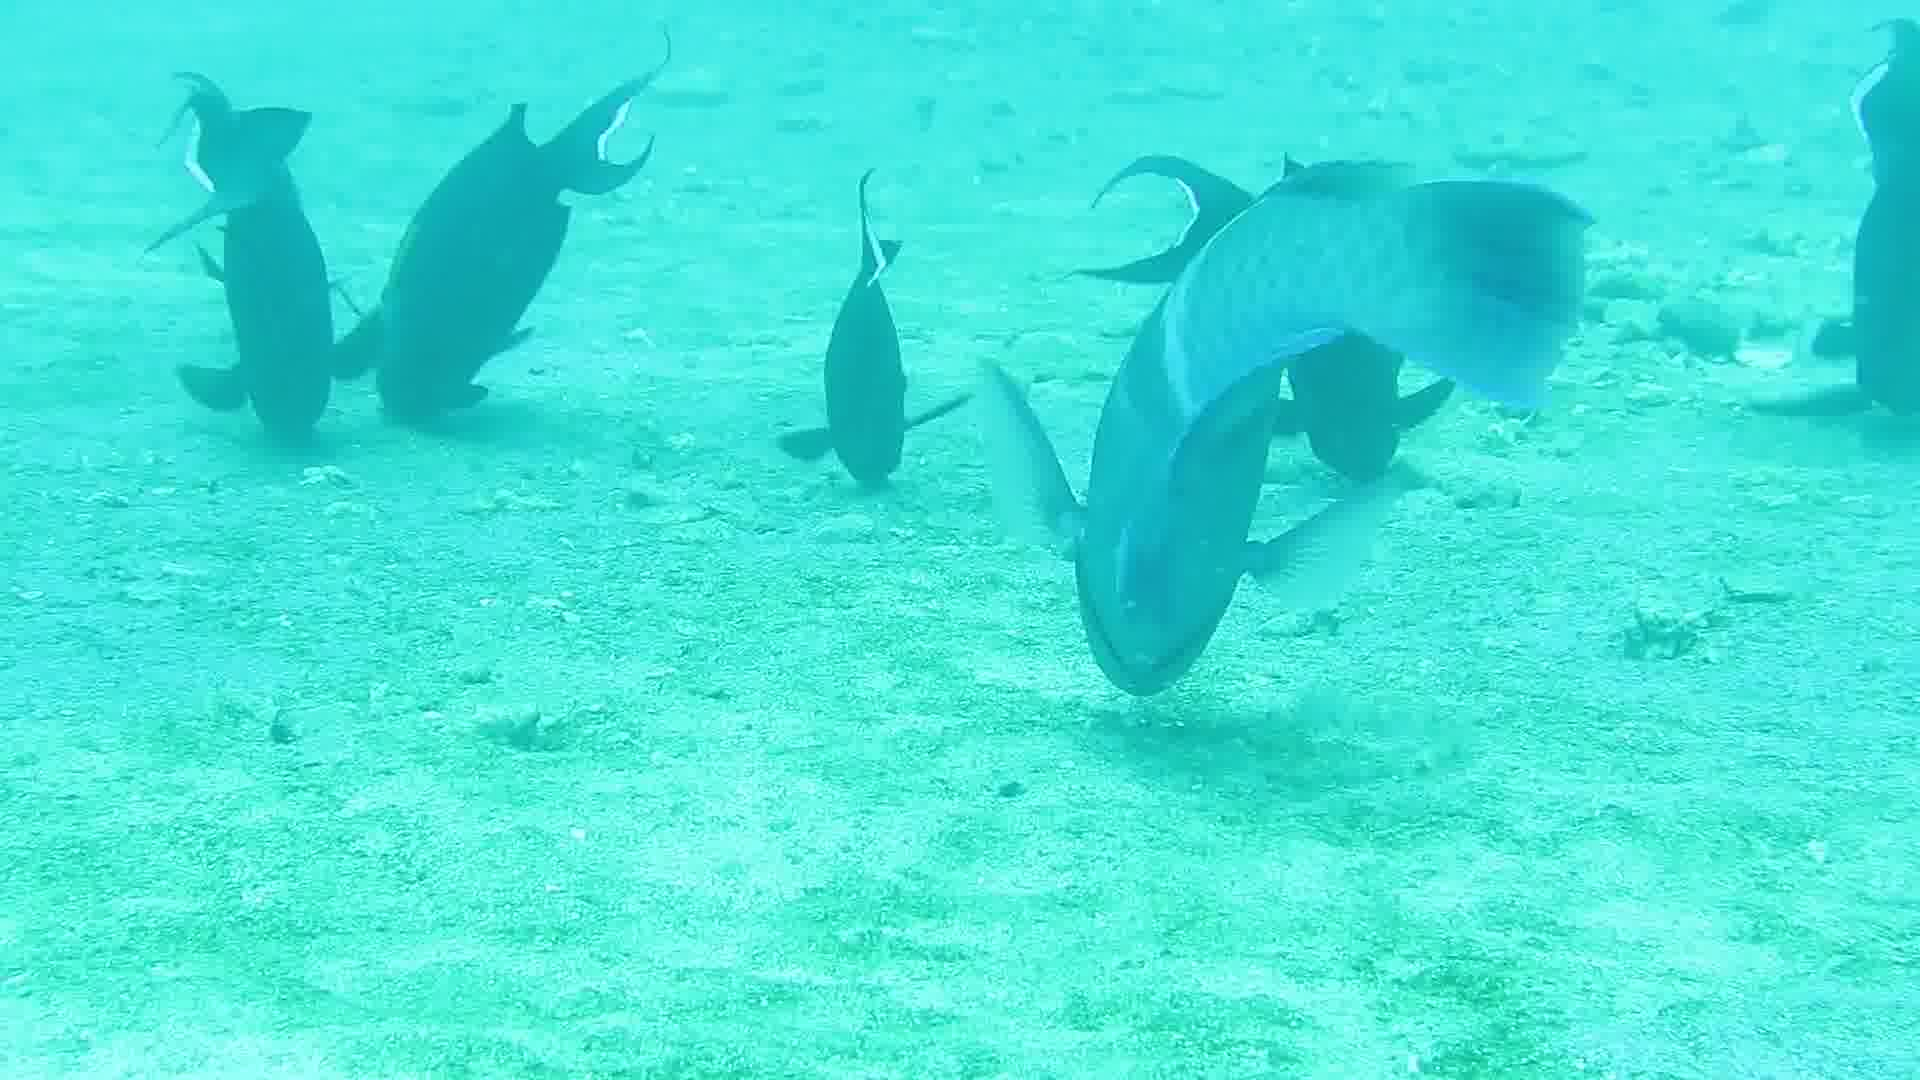Acanthurus olivaceus: (1025, 167, 1509, 661), (338, 32, 642, 476), (128, 40, 360, 480), (800, 157, 978, 541)
